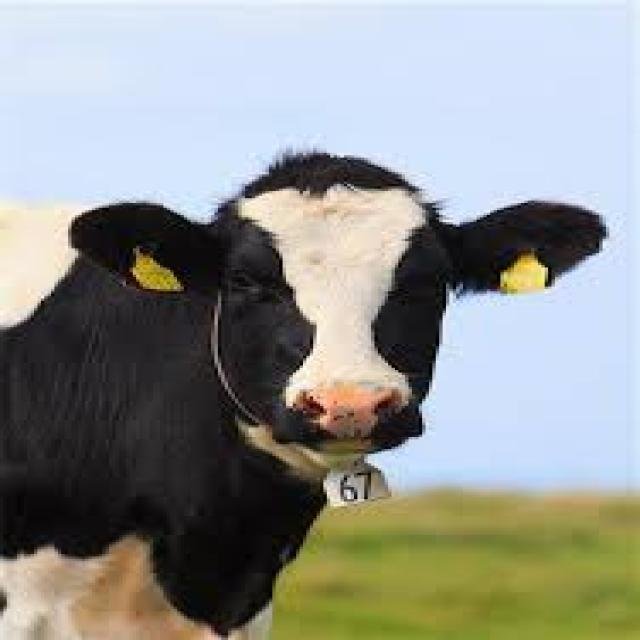cowFace: (51, 146, 620, 511)
